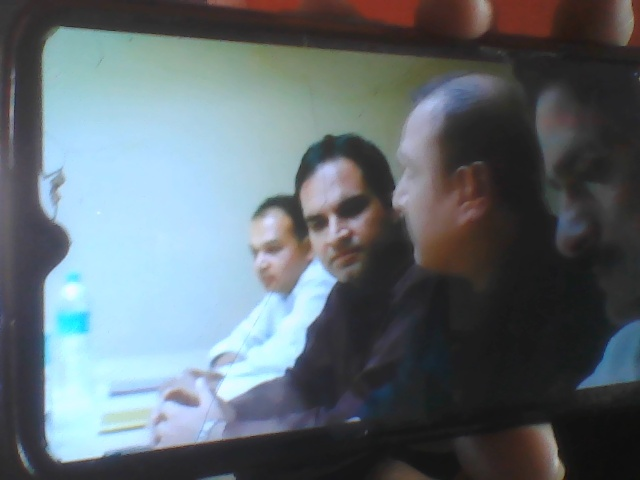fake: (289, 113, 423, 303)
